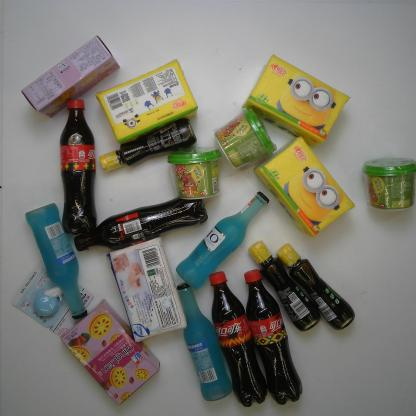Alcohol: (176, 190, 268, 291), (26, 202, 90, 320), (175, 280, 234, 402)
Dessert: (59, 299, 160, 408), (19, 36, 121, 120)
Drink: (207, 273, 268, 407), (244, 267, 302, 403), (73, 195, 206, 252), (59, 97, 102, 233)
Instant Drink: (215, 105, 276, 171), (361, 155, 416, 212), (169, 146, 222, 202)
Seasoner: (249, 239, 322, 332), (277, 243, 354, 329), (98, 116, 198, 172)
Stationery: (10, 260, 95, 337)
Tissue: (252, 136, 354, 239), (241, 54, 349, 143), (96, 58, 200, 146), (107, 237, 187, 342)
